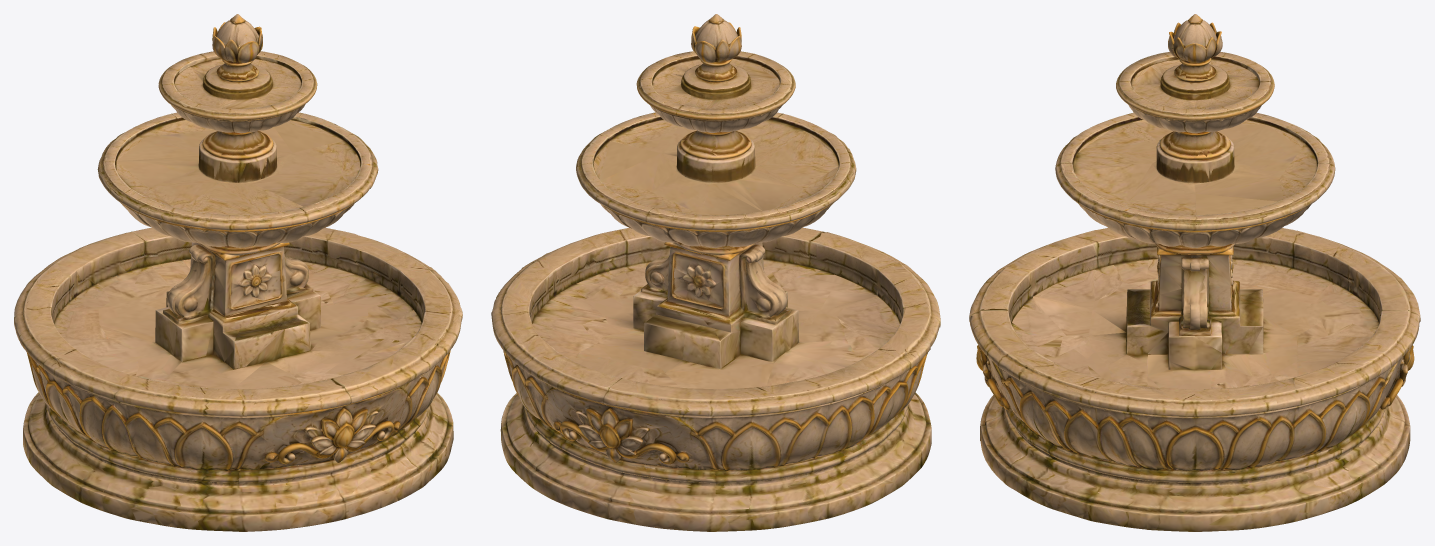
Rendered from fuente.glb.
The picture shows the model from 3 angles, left to right: view 1: azimuth 30°, elevation 25°; view 2: azimuth 150°, elevation 25°; view 3: azimuth 270°, elevation 25°; orthographic projection.
Parts seen in each view (by area): view 1: Mesh_0; view 2: Mesh_0; view 3: Mesh_0.
Boxes of the visible parts, x1,y1,x2,y2 form: Mesh_0: (14,14,462,531); Mesh_0: (491,14,940,531); Mesh_0: (969,14,1420,531).
Size of the model in its own units: 1.81 by 1.9 by 1.82.
1 material, 1 textured.
